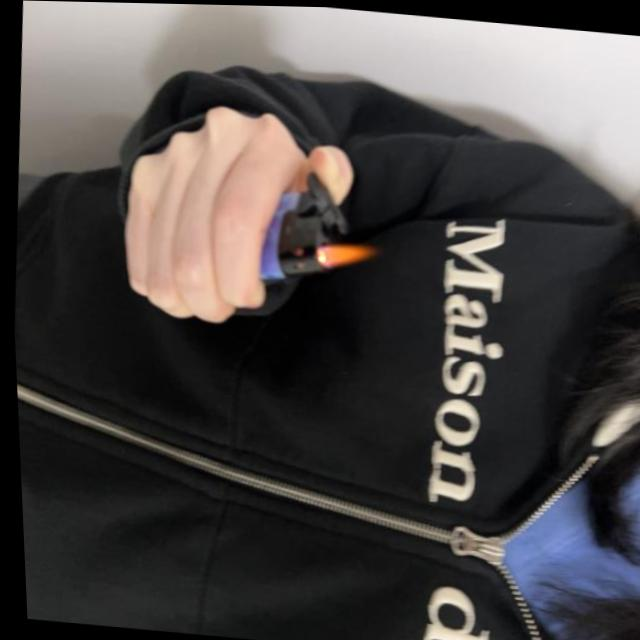Fire: (312, 237, 377, 272)
